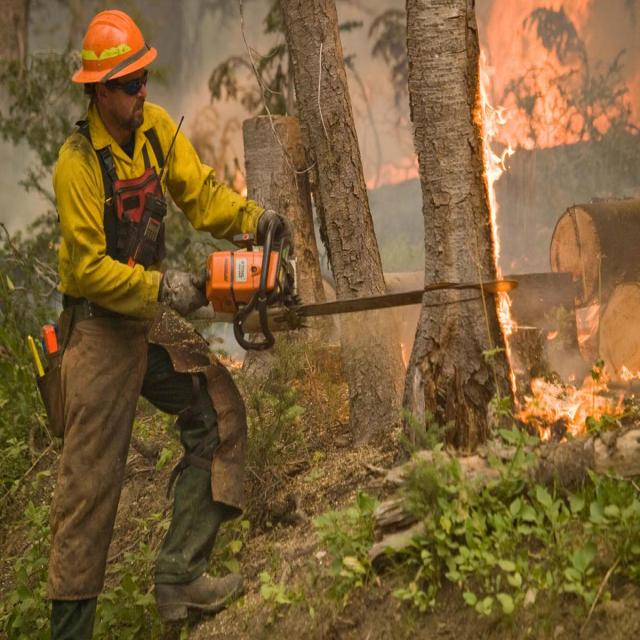Fire: (466, 51, 542, 425), (490, 6, 594, 146), (516, 363, 625, 449)
